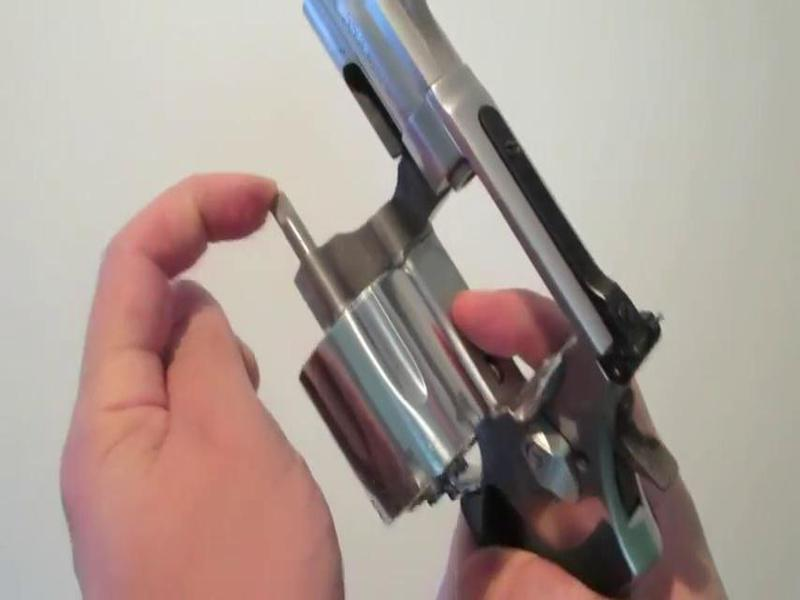Revolver: (260, 4, 690, 600)
